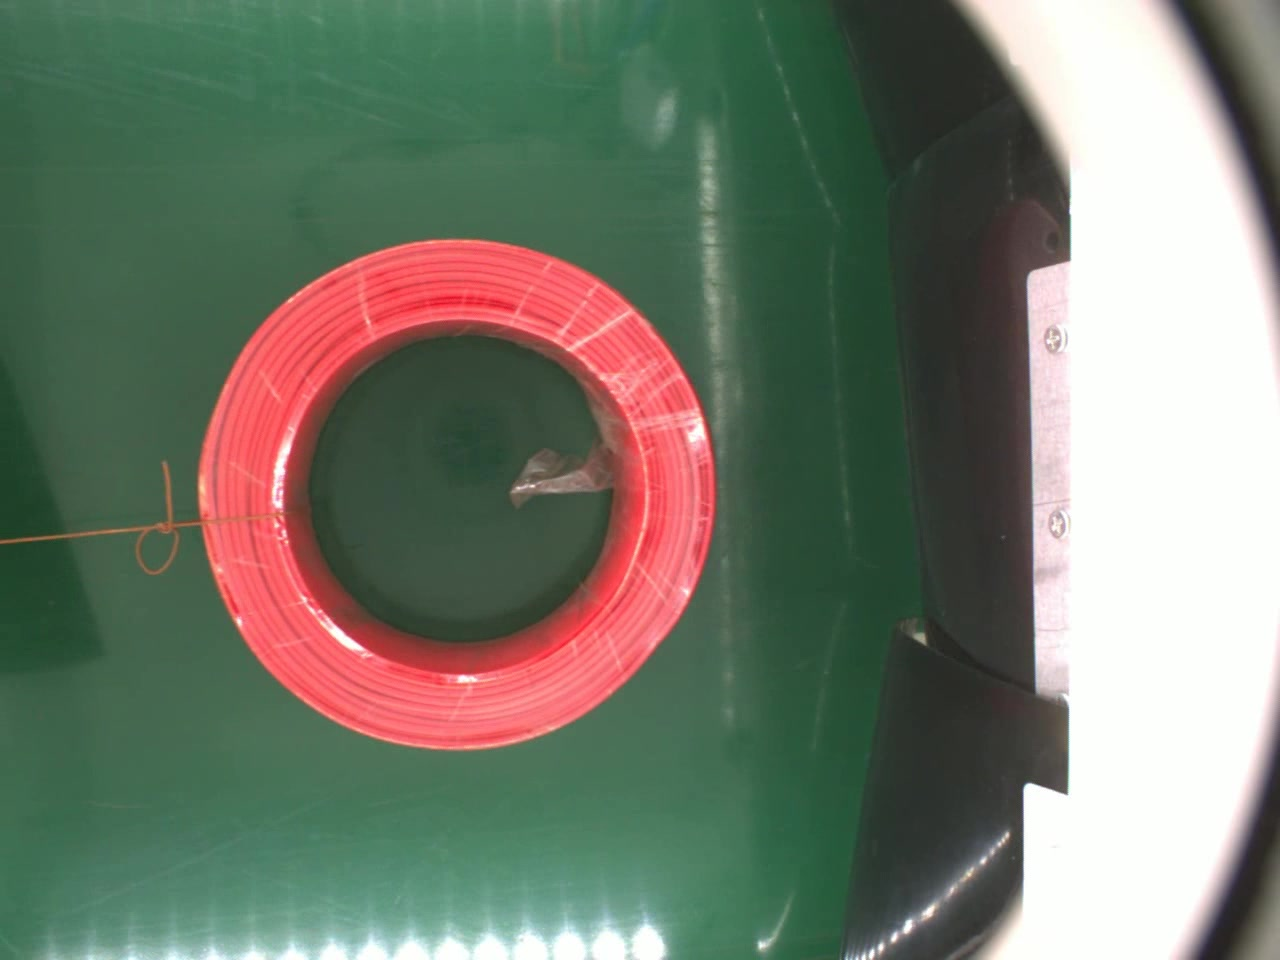red: (187, 223, 727, 758)
